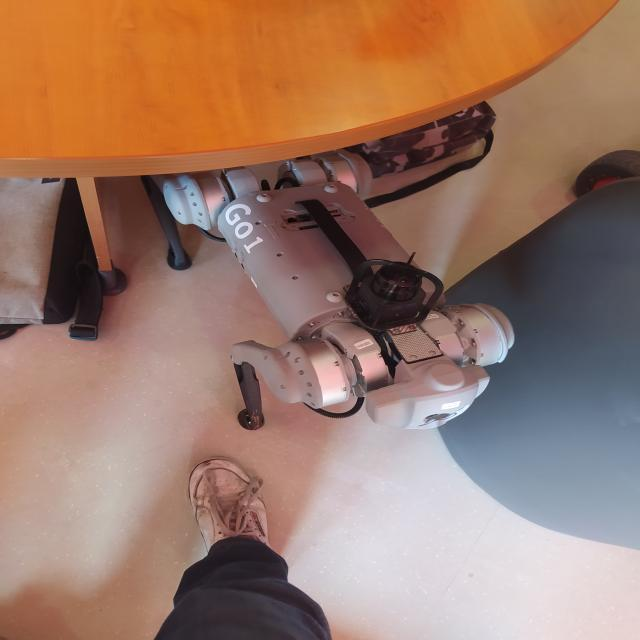unitree-go1-robot: (142, 142, 528, 445)
